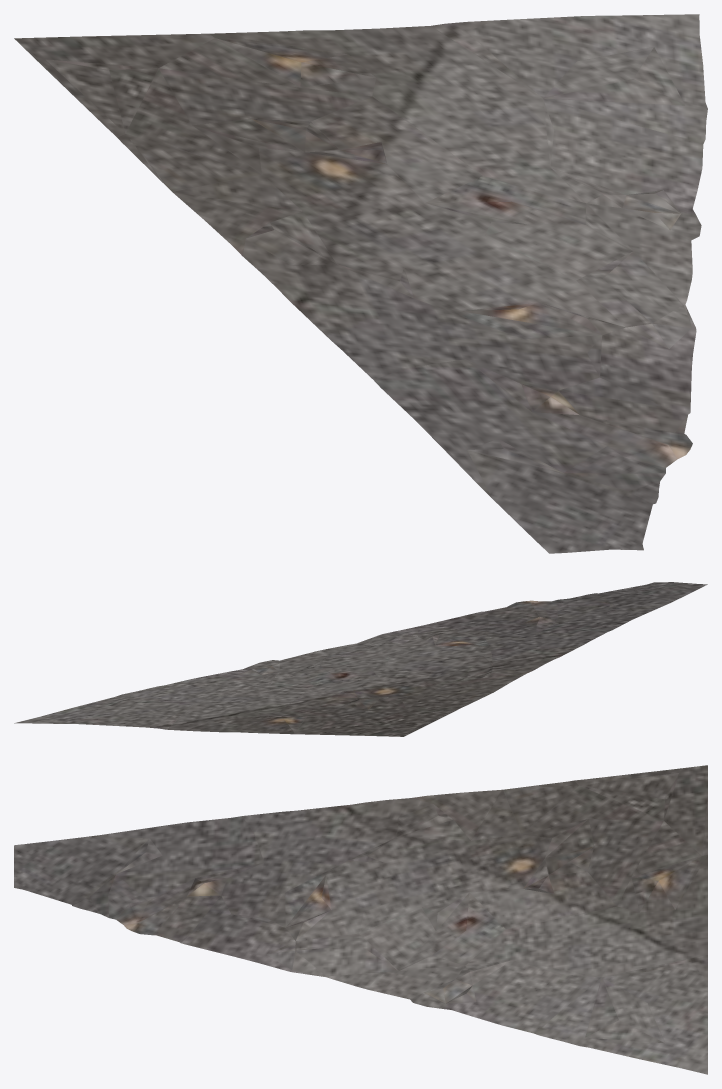
3 renders of one model, top to bottom at view 1: azimuth 30°, elevation 25°; view 2: azimuth 150°, elevation 25°; view 3: azimuth 270°, elevation 25°, orthographic. The views are drawn at different scales.
Bounding box in the file's own units: 1.24 × 0.247 × 1.67.
2 materials, 2 textured.
